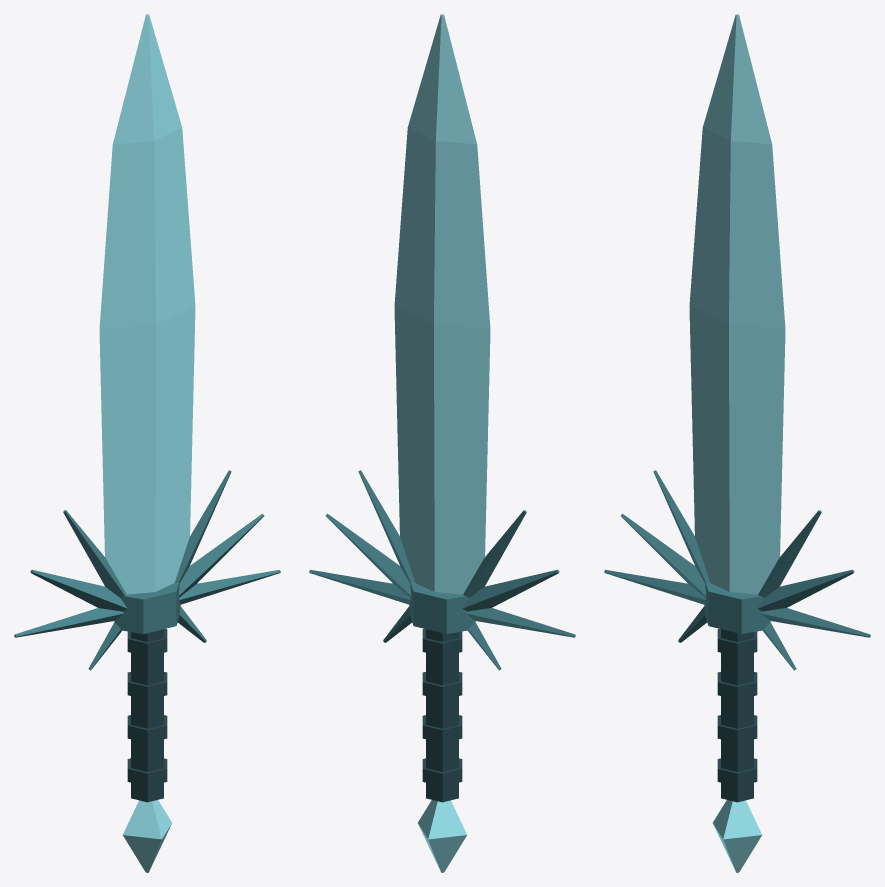
The model's file is sword_frost.glb.
3 renders of one model, left to right at view 1: azimuth 30°, elevation 25°; view 2: azimuth 150°, elevation 25°; view 3: azimuth 330°, elevation 25°, orthographic.
Visible parts, largest first — view 1: sword_frost; view 2: sword_frost; view 3: sword_frost.
Part boxes in pixels (x1,y1,x2,y2): sword_frost: (14, 14, 280, 872); sword_frost: (309, 14, 575, 872); sword_frost: (604, 14, 870, 872).
Bounding box in the file's own units: 0.32 × 0.99 × 0.06.
